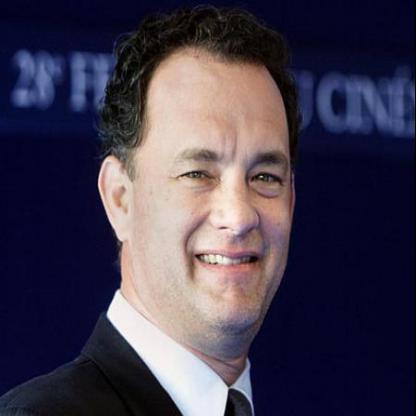face: (132, 35, 304, 344)
